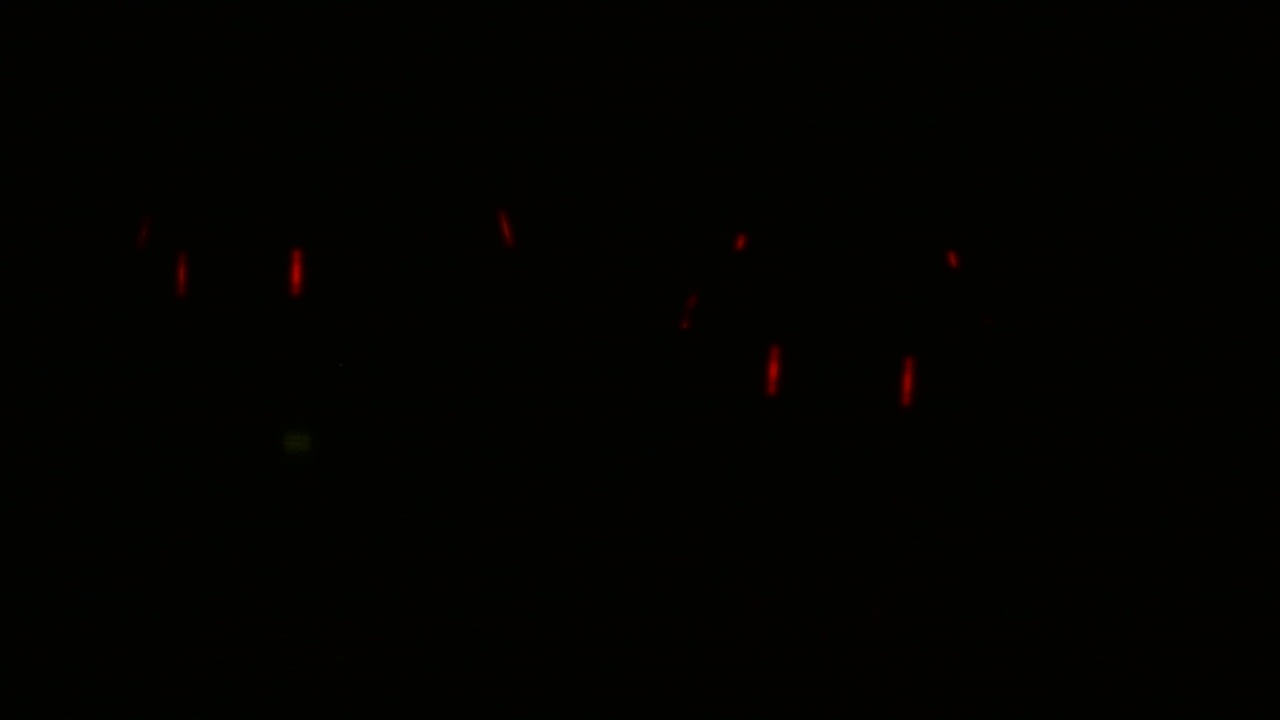pair1: (761, 332, 924, 422), (173, 233, 311, 308)
